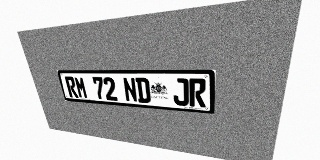2: (102, 77, 118, 101)
7: (91, 77, 106, 100)
D: (135, 77, 151, 103)
J: (172, 78, 189, 106)
M: (74, 77, 88, 99)
N: (122, 77, 138, 102)
R: (189, 78, 206, 107), (64, 76, 79, 98)
